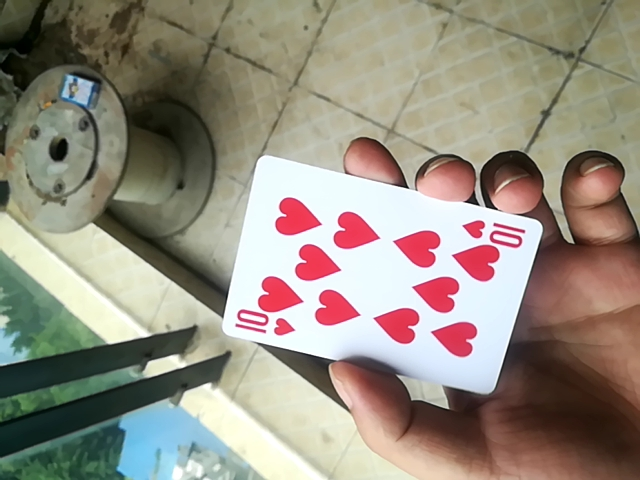hx 10: (216, 151, 544, 398)
